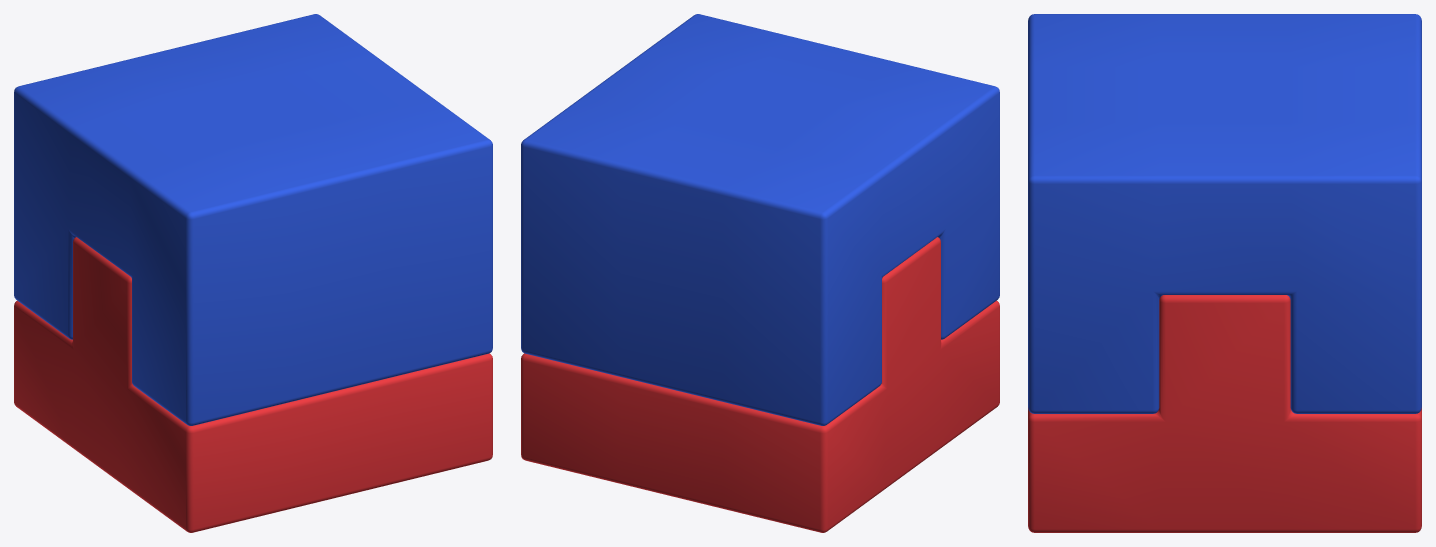
File: Easy1_.gltf
3 renders of one model, left to right at view 1: azimuth 30°, elevation 25°; view 2: azimuth 150°, elevation 25°; view 3: azimuth 270°, elevation 25°, orthographic. The views are drawn at different scales.
Visible parts, largest first — view 1: top, bottom; view 2: top, bottom; view 3: top, bottom.
Boxes of the visible parts, box(x1,y1,x2,y2) form: top: box(14, 14, 492, 425); bottom: box(14, 237, 492, 532); top: box(521, 14, 999, 425); bottom: box(521, 237, 999, 532); top: box(1028, 14, 1421, 413); bottom: box(1028, 295, 1421, 532).
Size of the model in its own units: 6 by 6 by 6.
